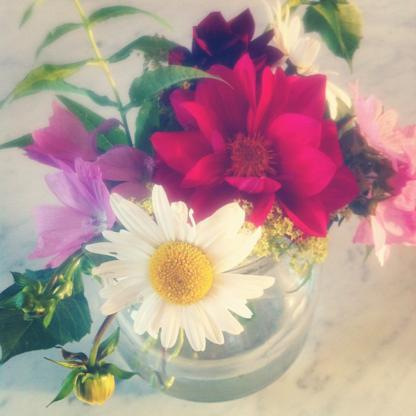vase: (100, 230, 324, 402)
